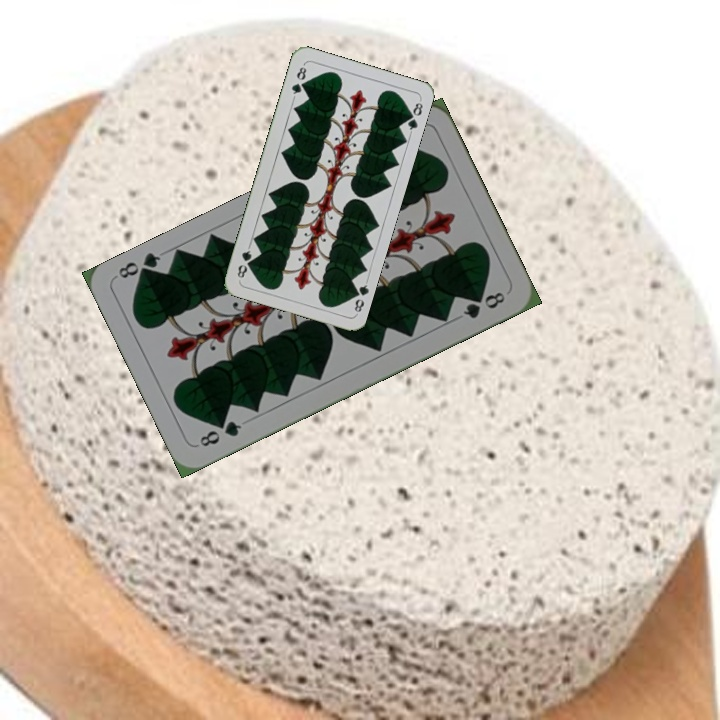G8: (195, 417, 245, 450), (348, 277, 371, 317), (287, 61, 309, 100)
